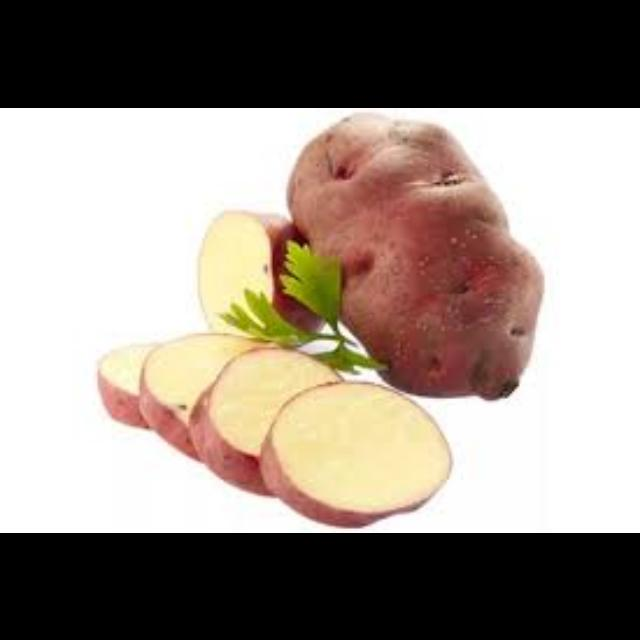Damaged potato: (284, 108, 546, 402)
